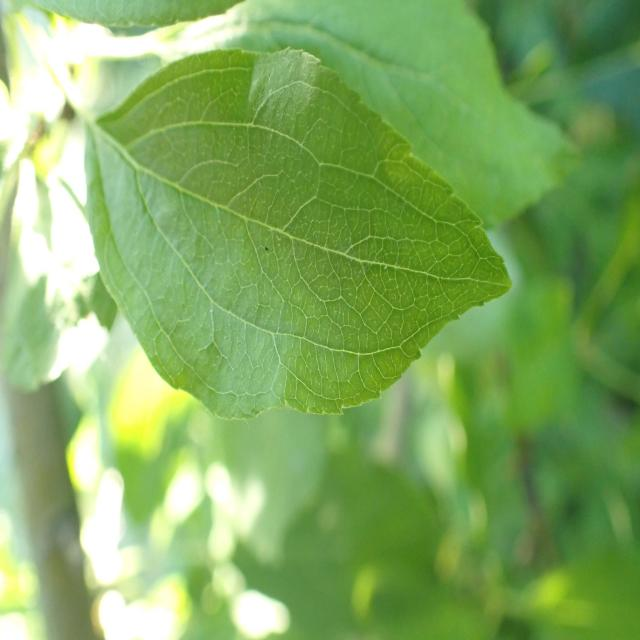healthy: (88, 46, 514, 421)
